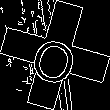O_N: (27, 25, 83, 85)
